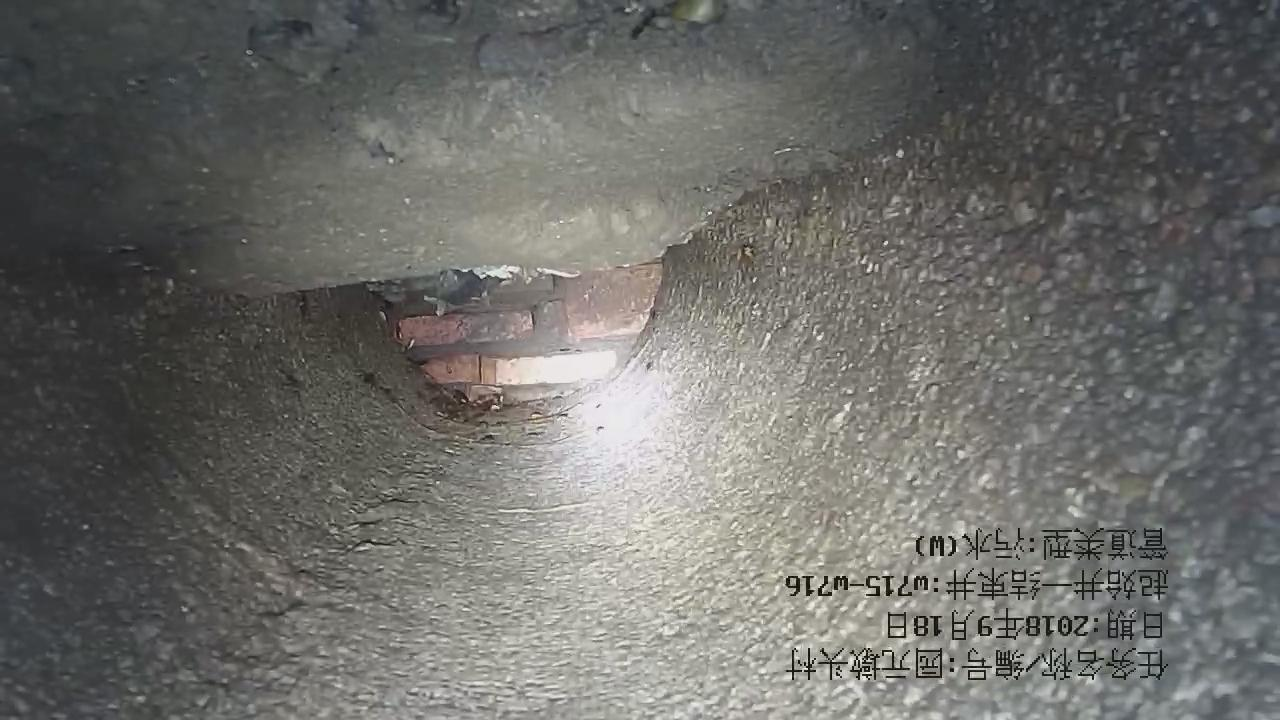CJ: (1, 1, 933, 295)
CQBG: (368, 260, 663, 404)
